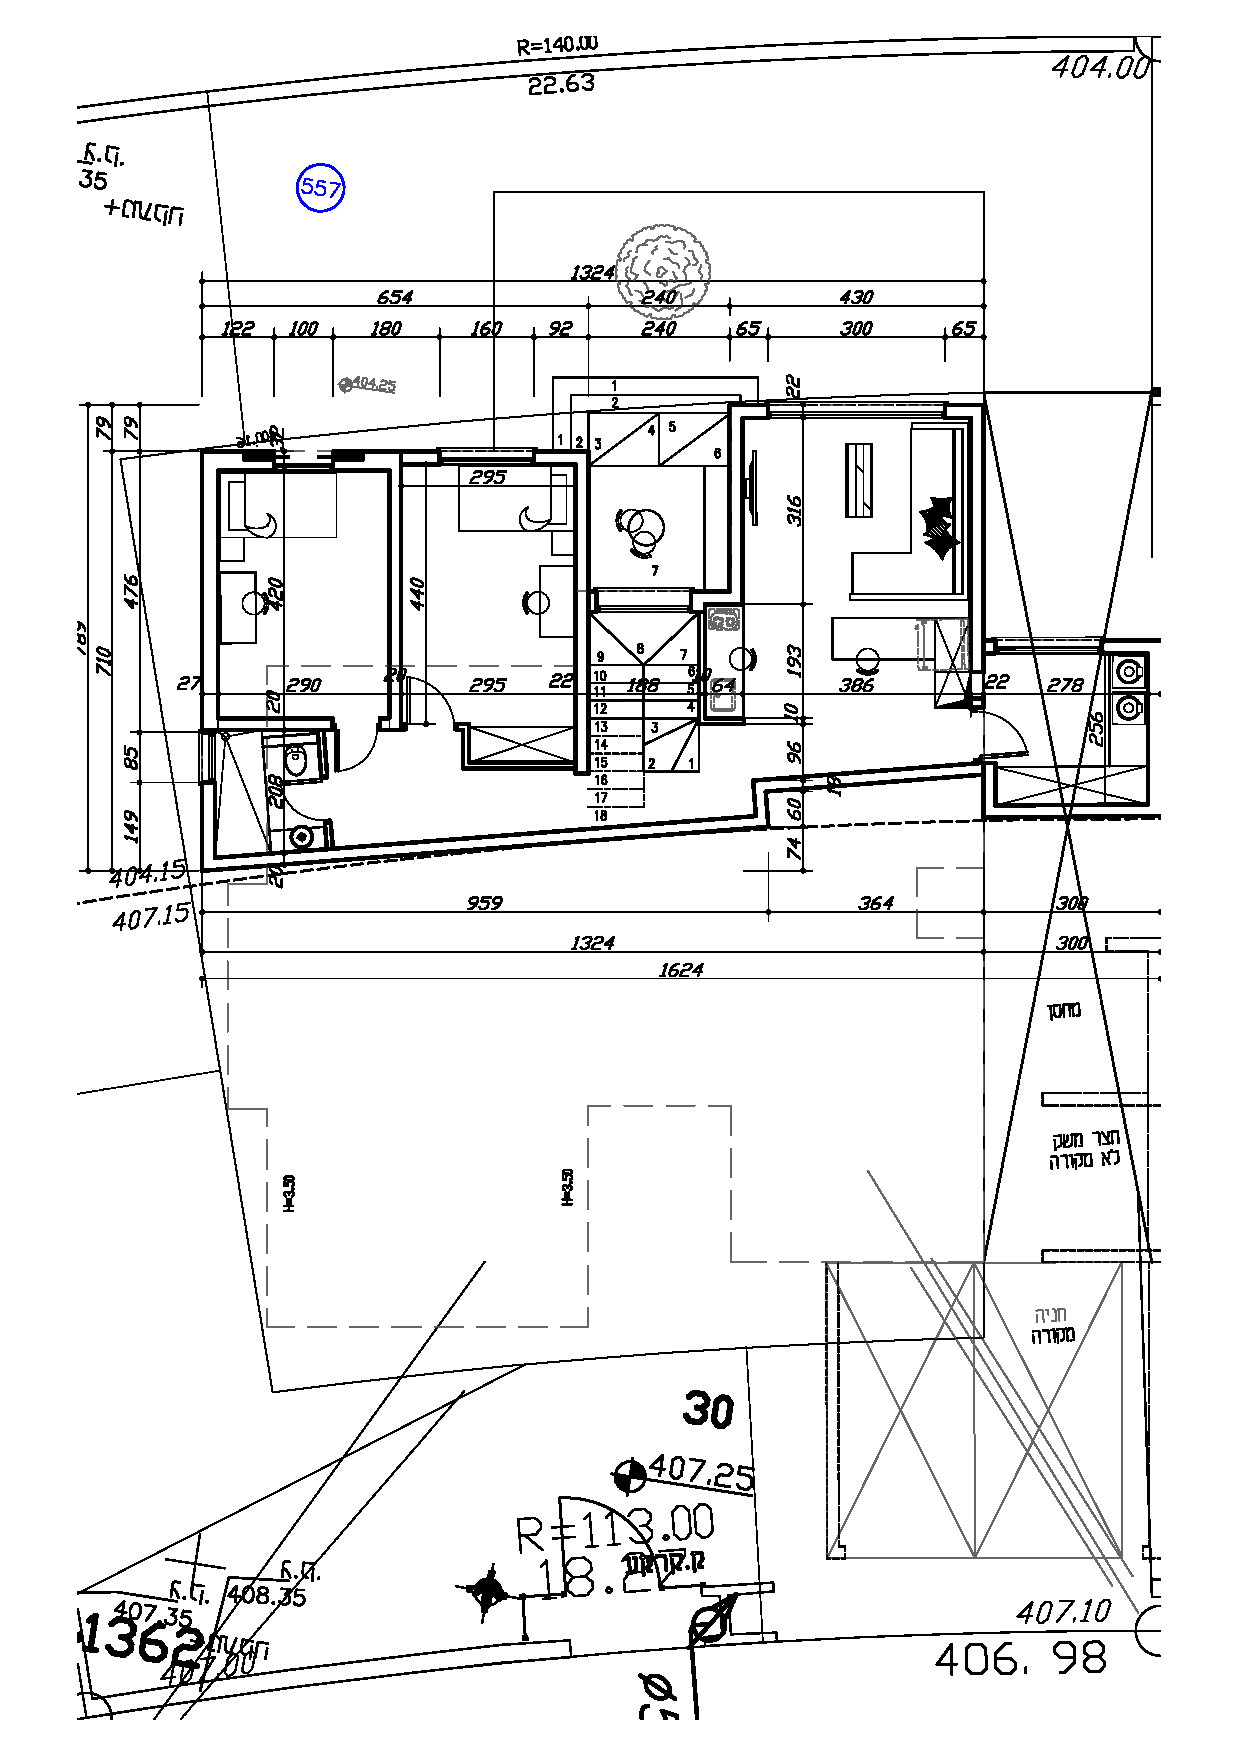door: (989, 713, 1044, 754), (331, 739, 386, 780)
window: (437, 448, 537, 462)
